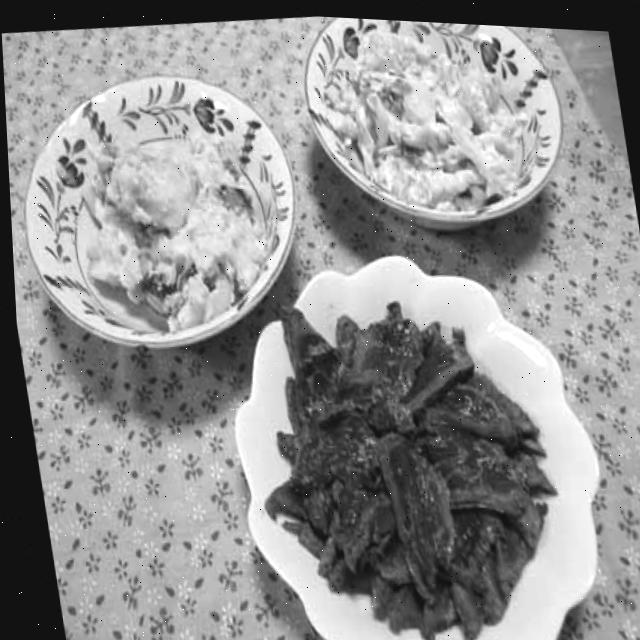蔬菜料理: (2, 46, 320, 369)
